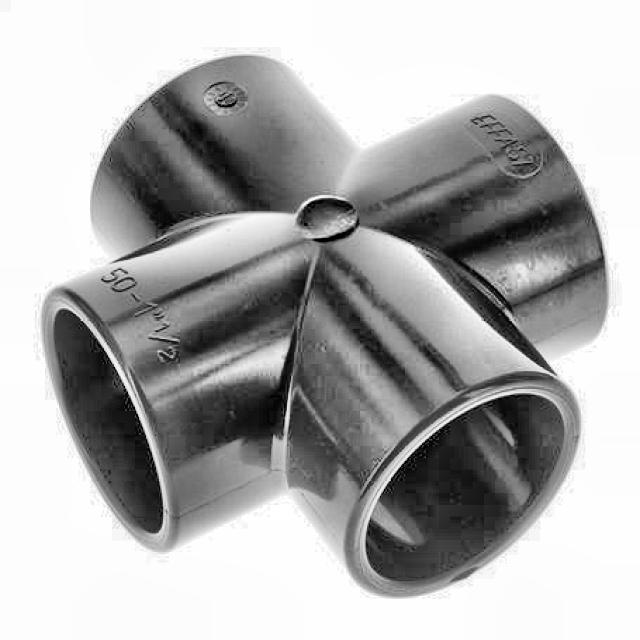EQUALCROSS: (41, 54, 609, 602)
